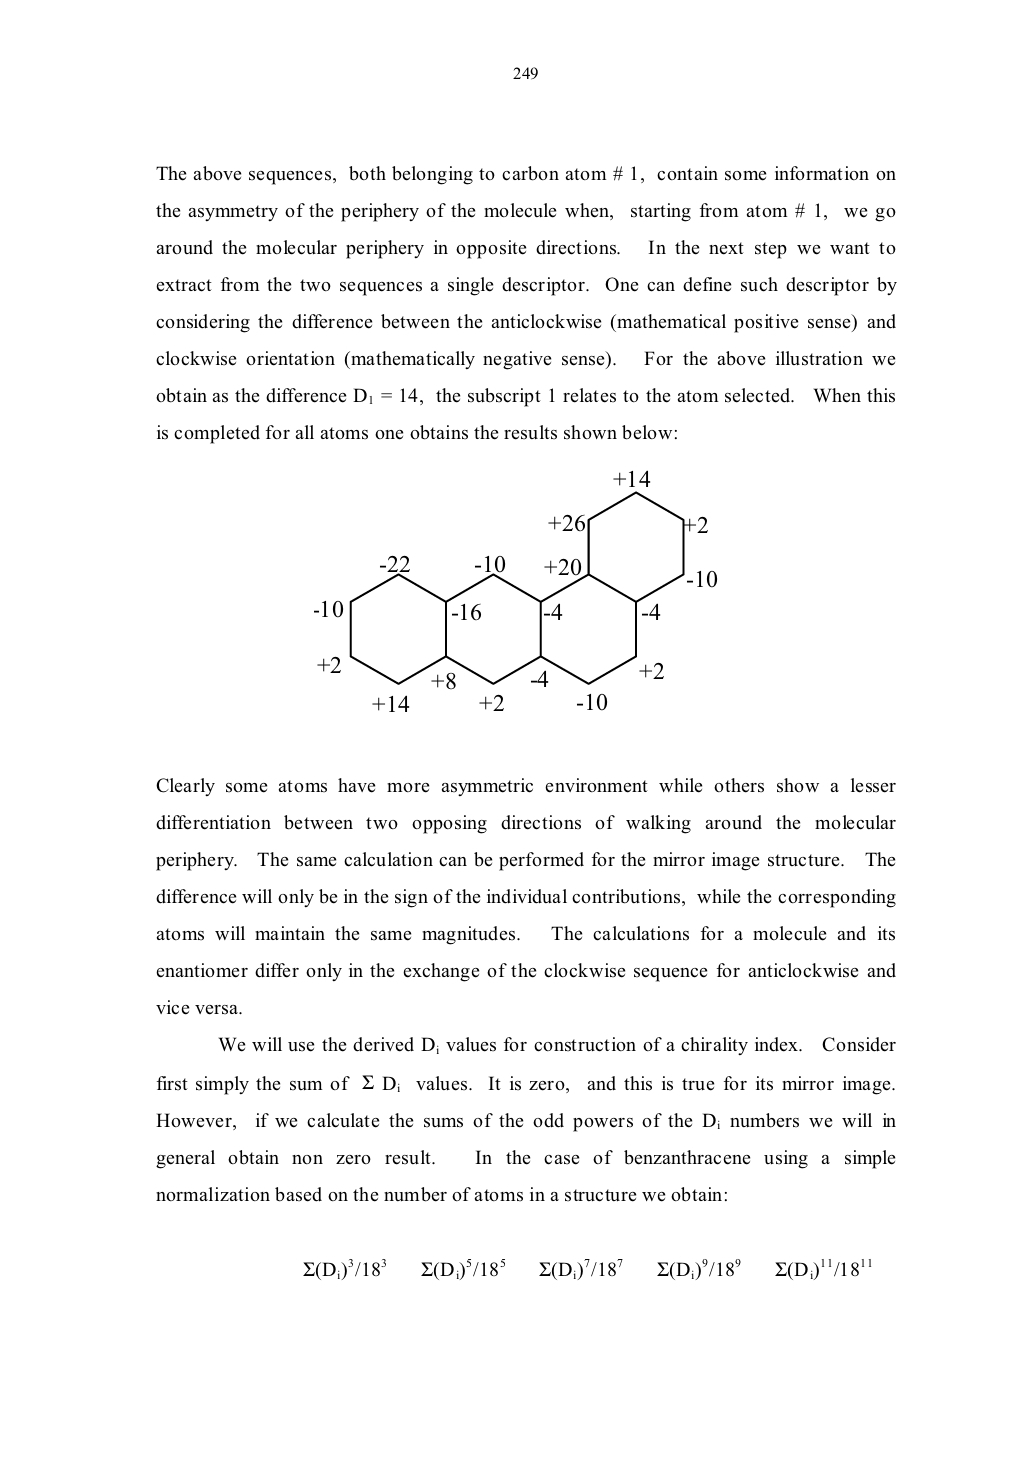figure: (314, 470, 717, 711)
formula: (303, 1258, 871, 1281)
